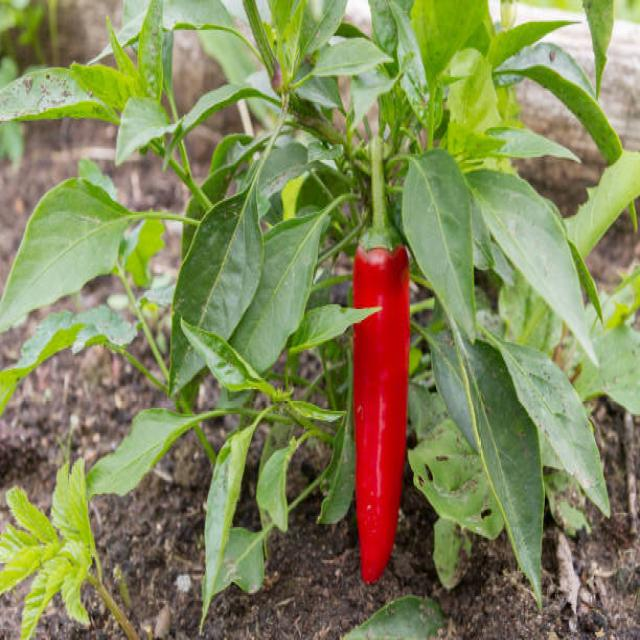Ripe: (352, 246, 409, 582)
